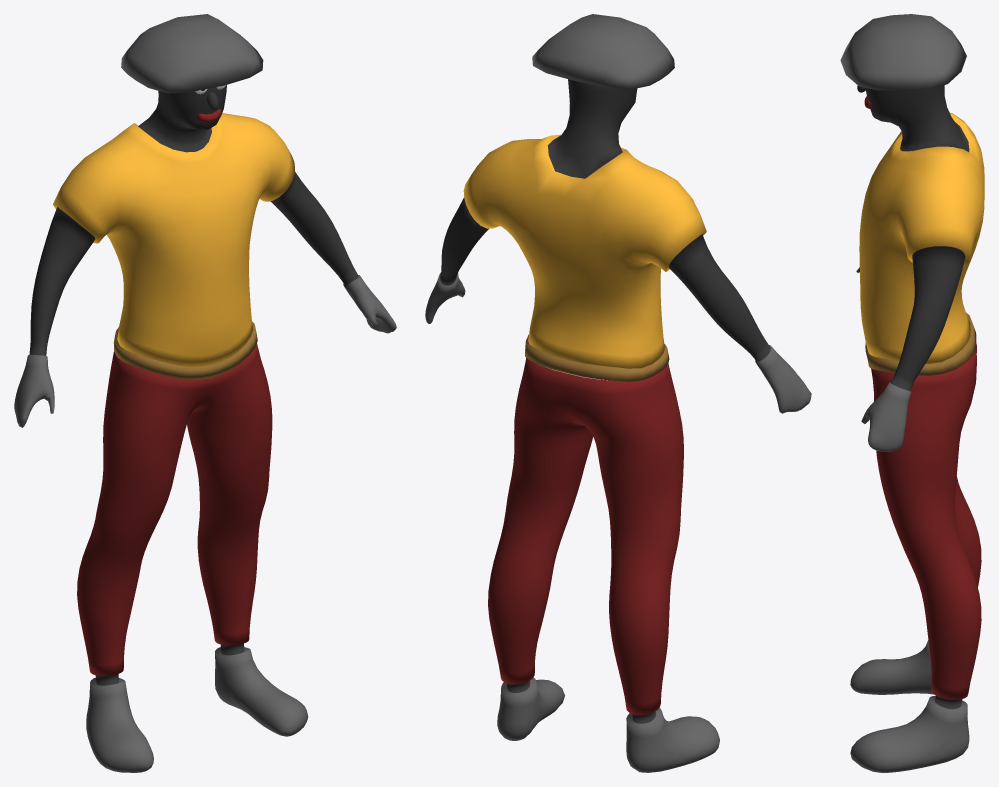
File: Karakter10.fbx
3 views of the same model, side by side, from view 1: azimuth 30°, elevation 25°; view 2: azimuth 150°, elevation 25°; view 3: azimuth 270°, elevation 25° (orthographic).
Visible parts, largest first — view 1: male_zbrush; view 2: male_zbrush; view 3: male_zbrush.
Boxes of the visible parts, x1,y1,x2,y2 form: male_zbrush: (14,14,396,772); male_zbrush: (425,14,811,772); male_zbrush: (840,14,984,772).
Bounding box in the file's own units: 157 × 285 × 52.81.
1 material, 1 textured.
